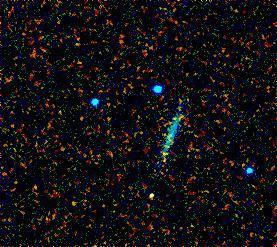star: (137, 181, 167, 211)
